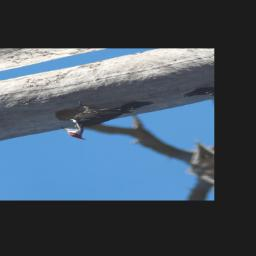Woodpecker: (46, 87, 168, 144)
